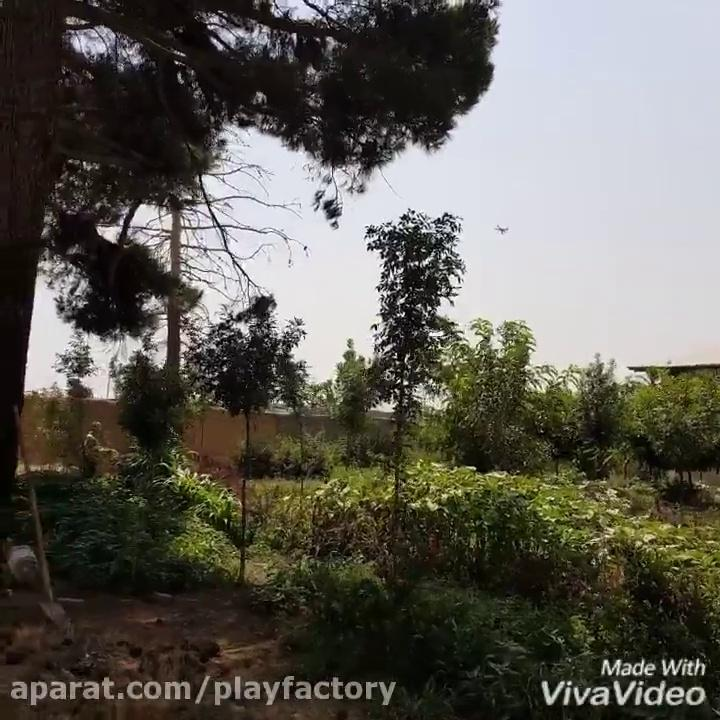drone: (490, 219, 512, 237)
